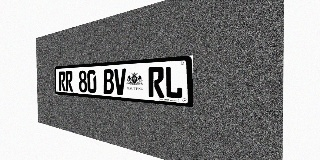0: (87, 70, 96, 93)
8: (79, 70, 87, 93)
B: (103, 69, 114, 94)
L: (165, 66, 183, 99)
R: (148, 67, 164, 98), (65, 71, 73, 92), (59, 71, 66, 91)
V: (114, 68, 126, 95)
